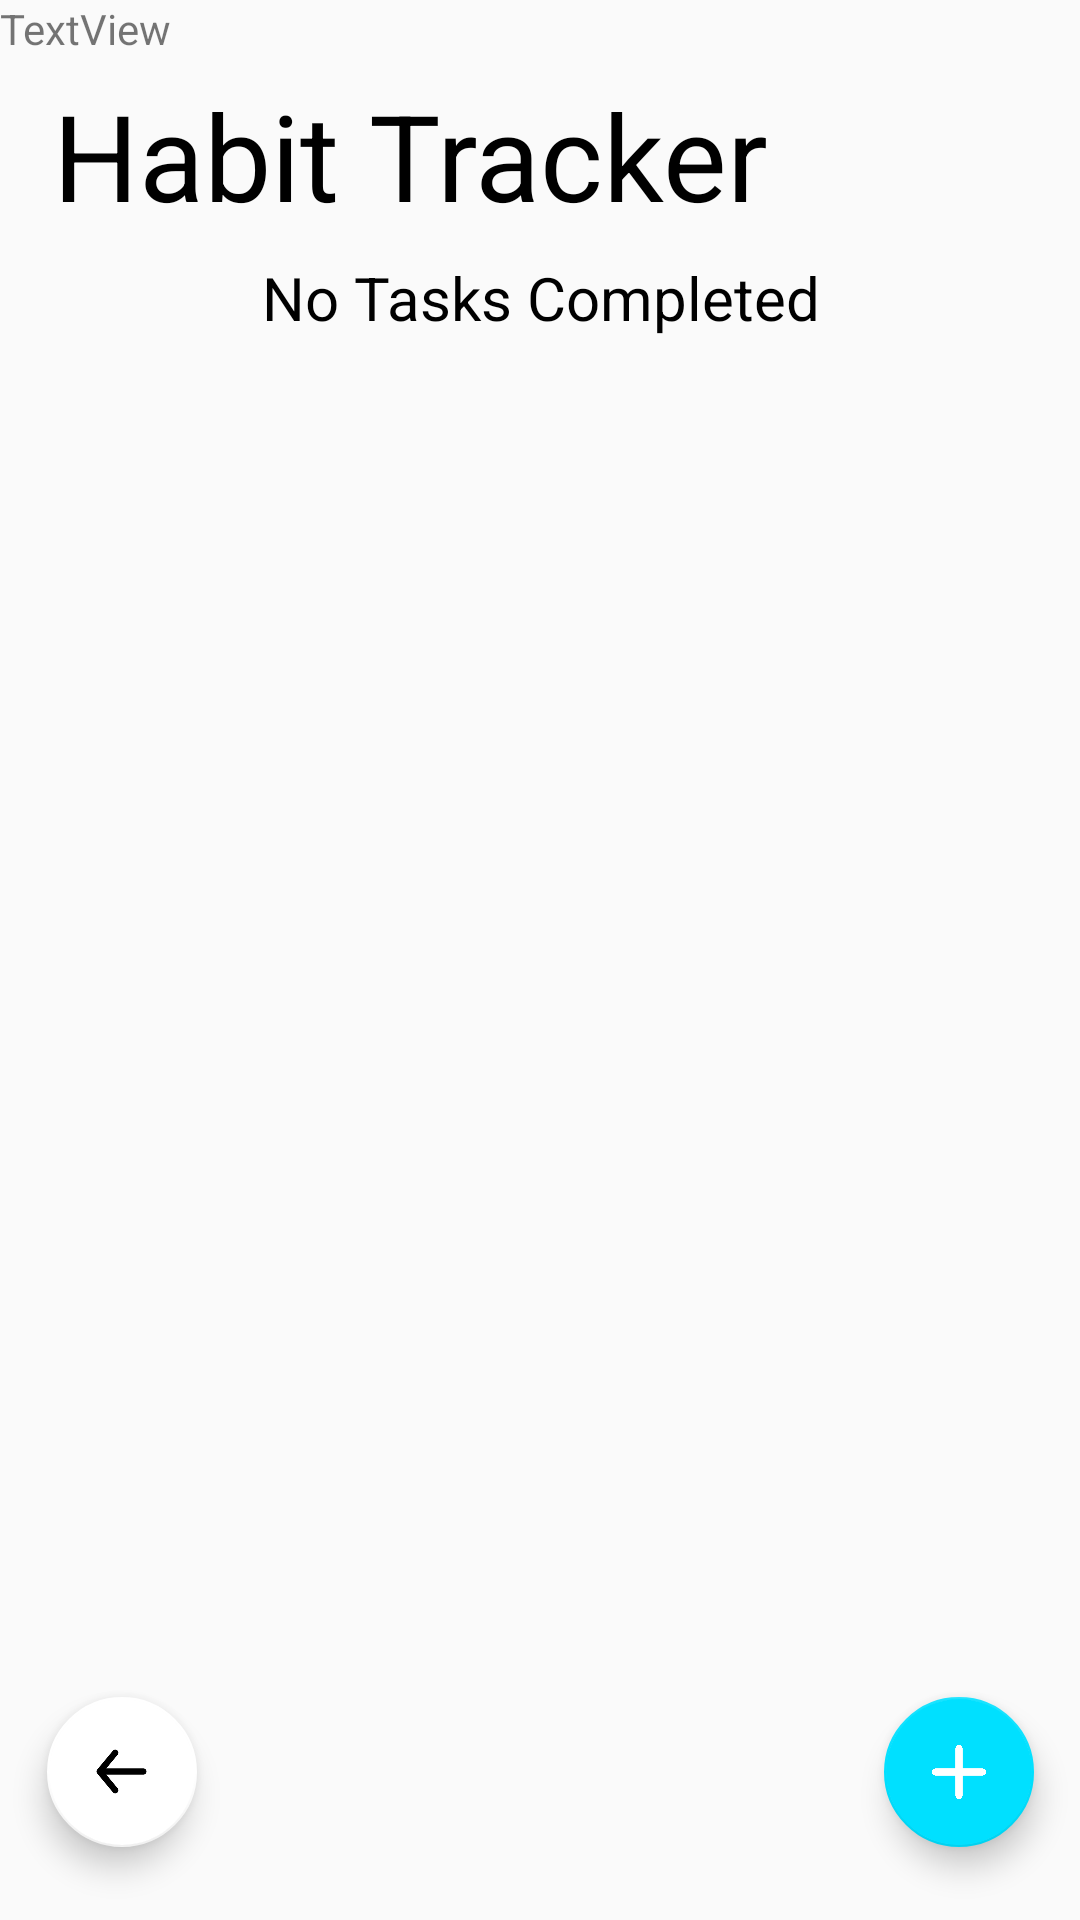

Named icons in this screenshot (1080 x 1920) and their bounding boxes, (left=x1, top=y1, right=x2, bottom=y2):
back arrow: (left=47, top=1749, right=191, bottom=1847)
plus: (left=884, top=1697, right=1034, bottom=1847)
